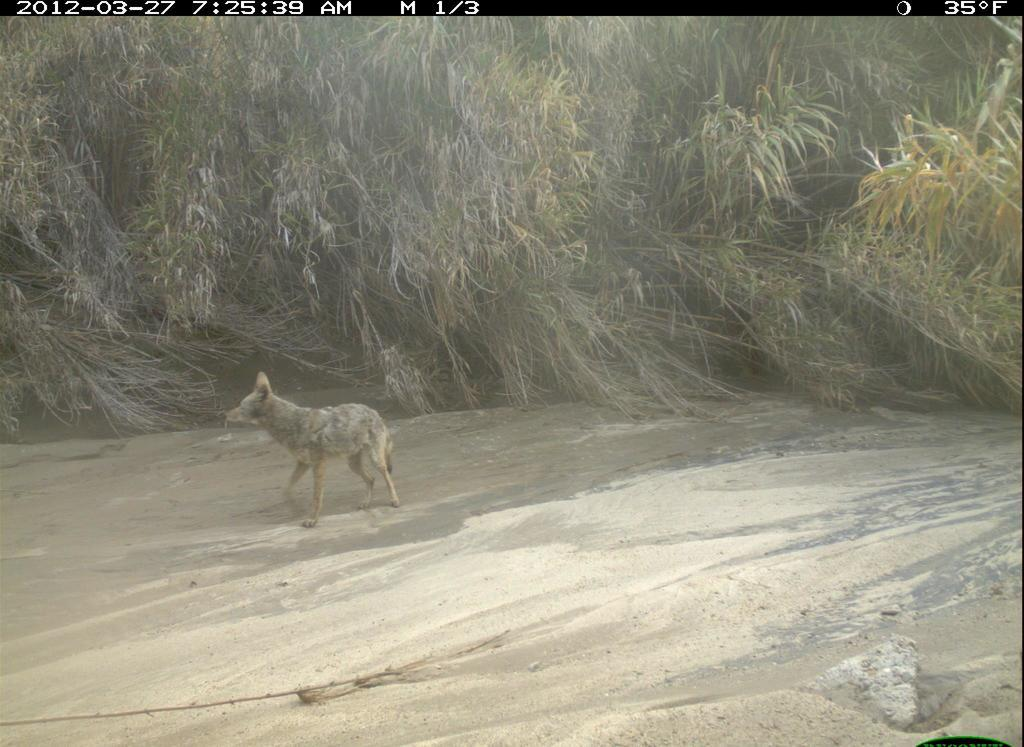coyote: (226, 370, 420, 528)
